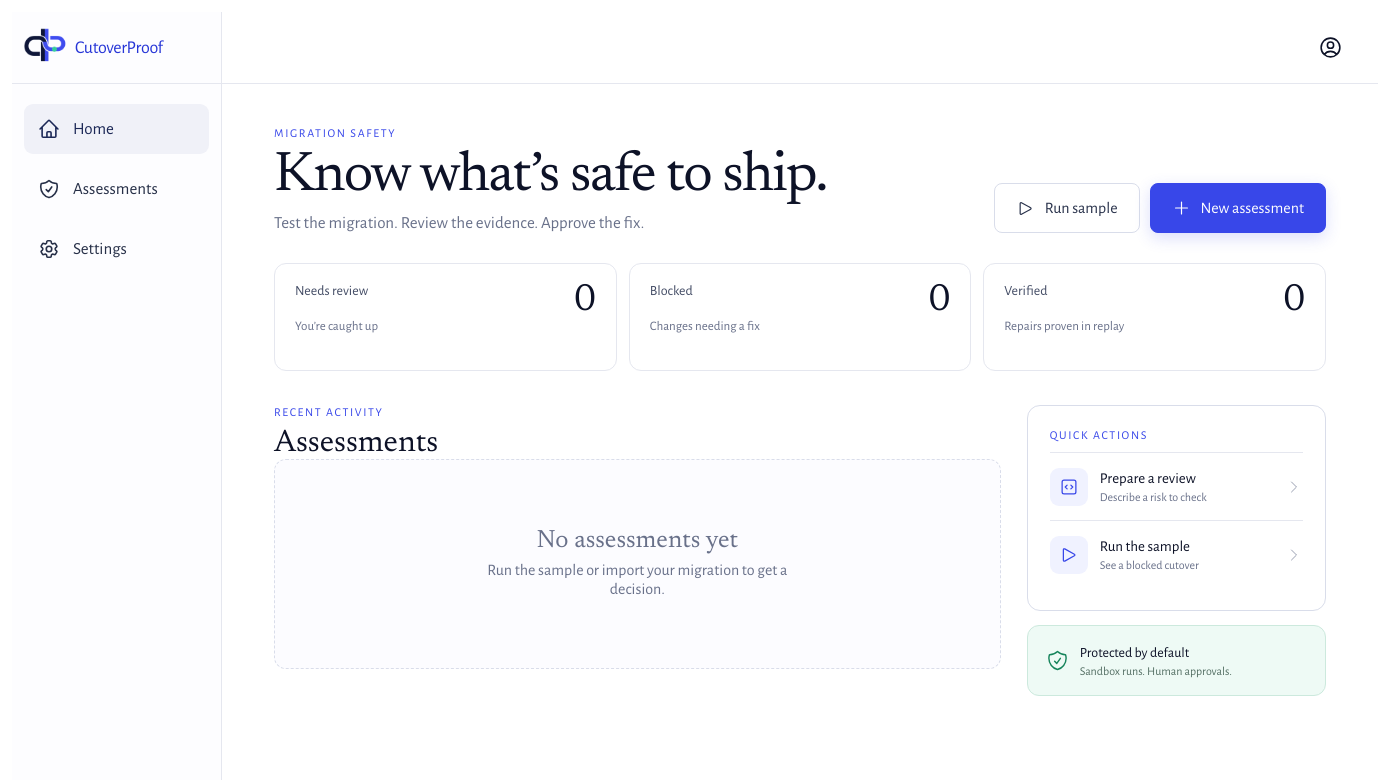
Test: CutoverProof customer workspace › dismisses the account menu when the engineer clicks elsewhere
This screenshot has width=1378, height=780.
Step 1. Click the button named "Account menu" → (1330, 48), box [1309, 26, 1352, 69]
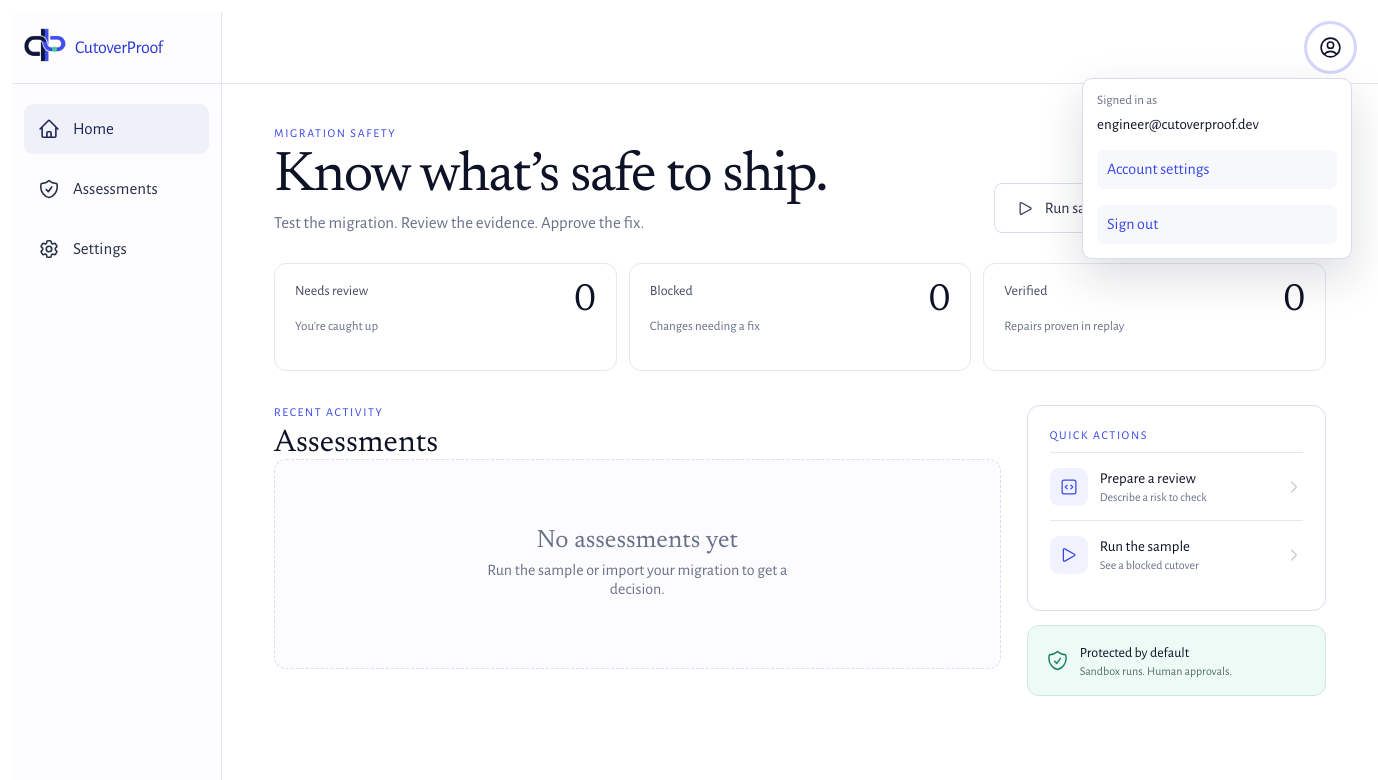
Result: the text "Signed in as" is shown at [1097, 94, 1157, 107]
Step 2. Click the heading "Know what’s safe to ship." → (550, 177), box [274, 149, 827, 205]
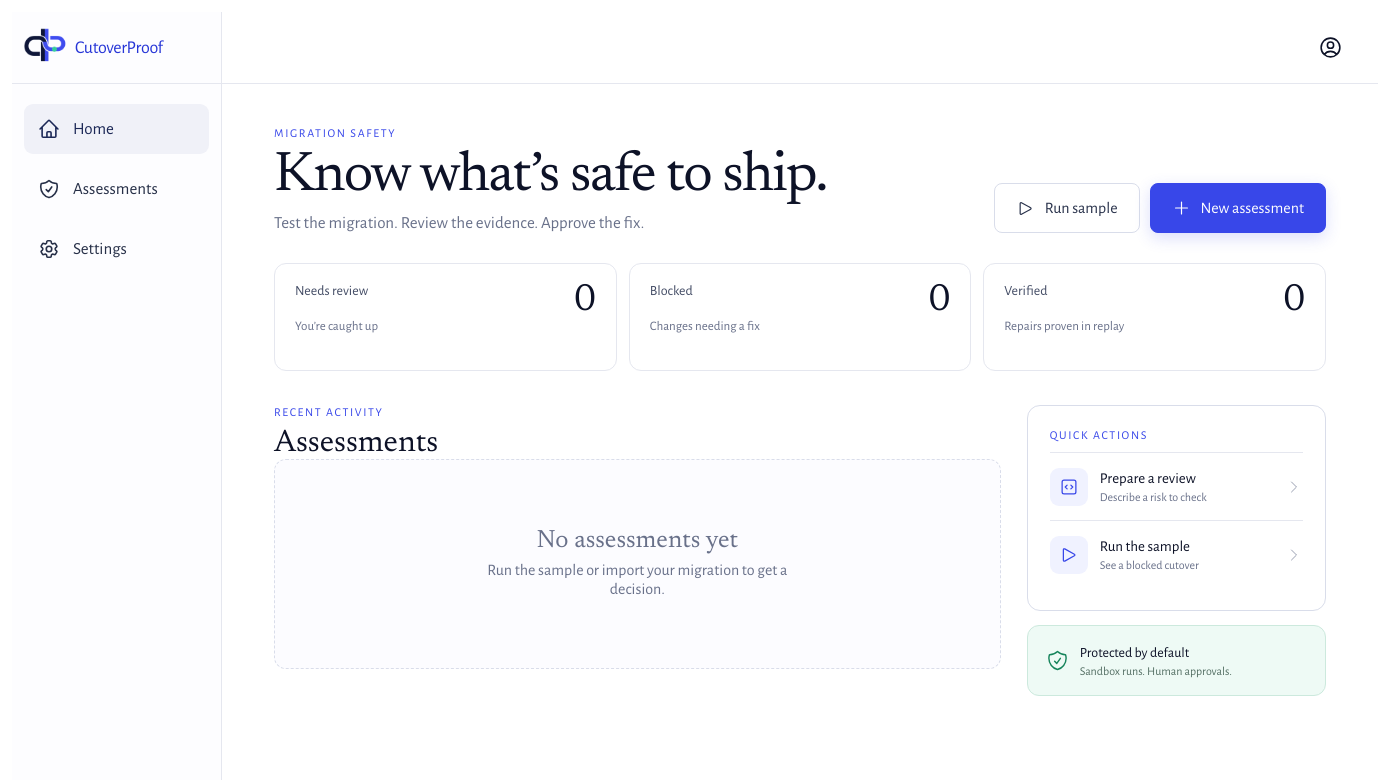
Result: the text "Signed in as" is gone
